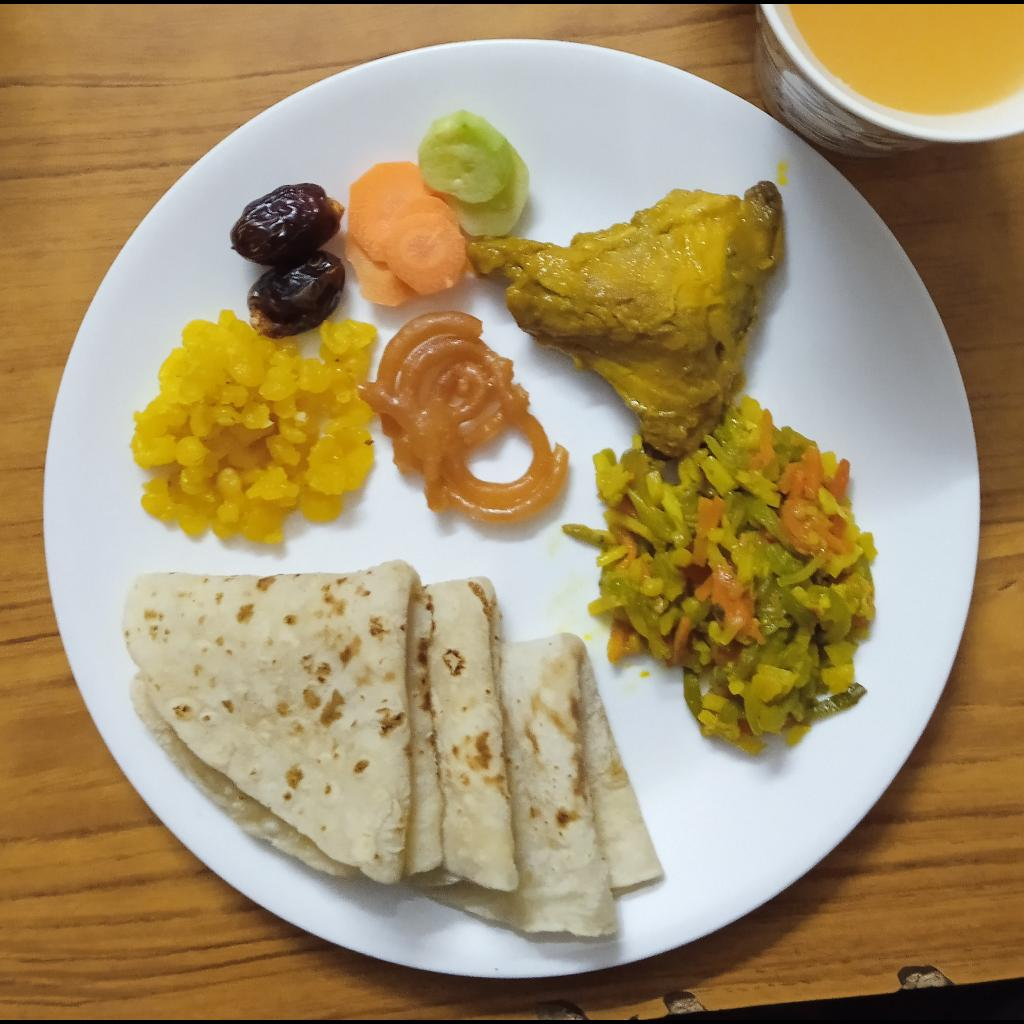burinda: (131, 309, 378, 544)
carrot: (344, 161, 466, 308)
chicken: (467, 180, 785, 456)
cucumber: (418, 108, 531, 237)
dates: (228, 183, 347, 338)
jilapi: (357, 310, 569, 523)
ruti: (125, 556, 665, 939)
vegetable: (561, 393, 874, 752)
